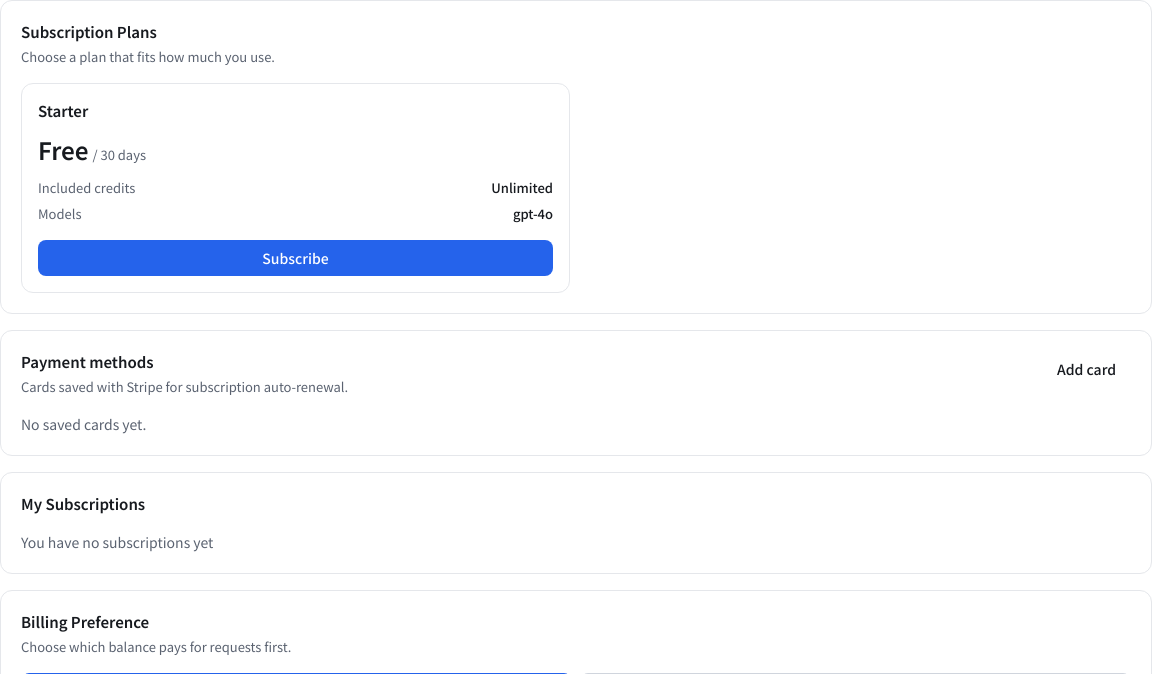
Test case: SubscriptionSection › activates a zero-price plan immediately without a checkout
Step 1. Click the button with aria-label "Subscribe Starter" → (296, 258), box [38,240,553,276]
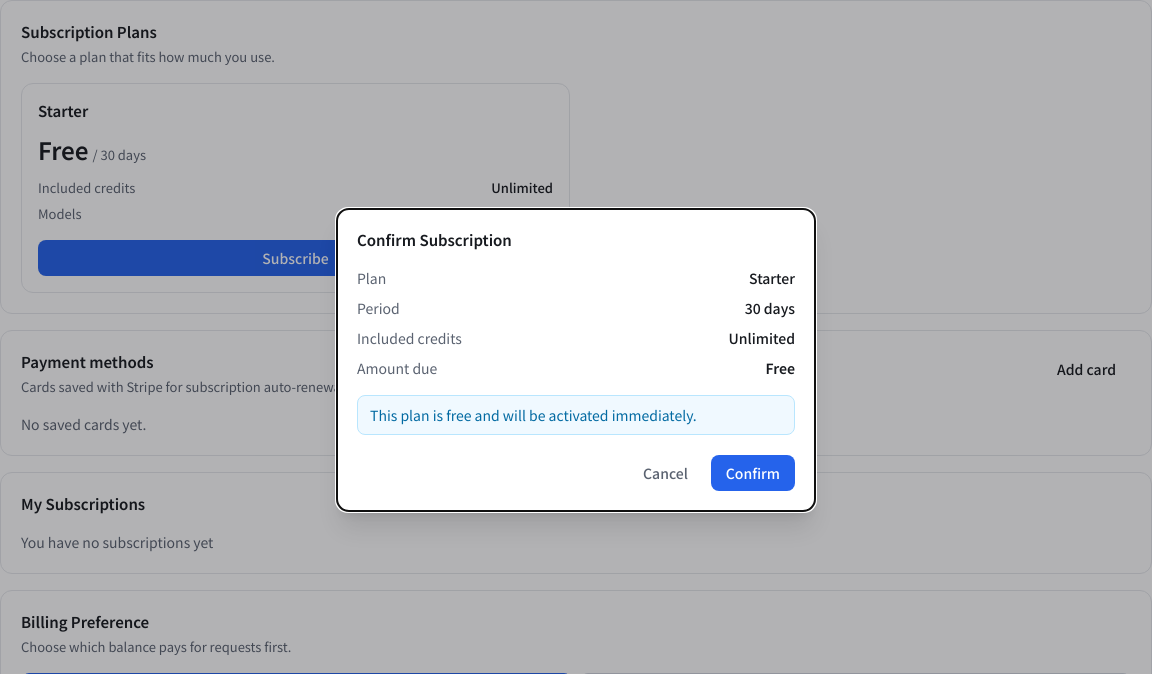
Check: the text "This plan is free and will be activated immediately." is shown, box [357,395,795,435]
Step 2. Click the button "Confirm" → (753, 473), box [711,455,795,491]
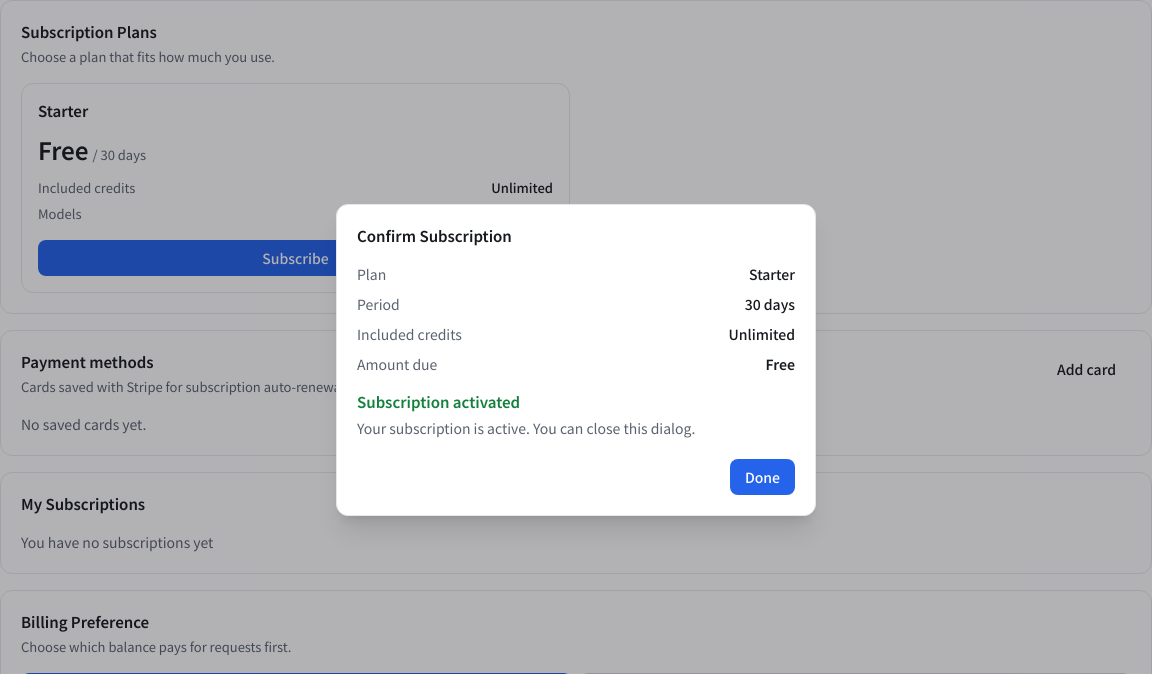
Check: the text "Subscription activated" is shown, box [357,391,520,412]
Check: the button "Done" is shown, box [730,459,795,495]
